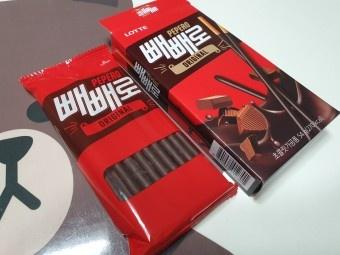snack: (111, 0, 340, 198)
